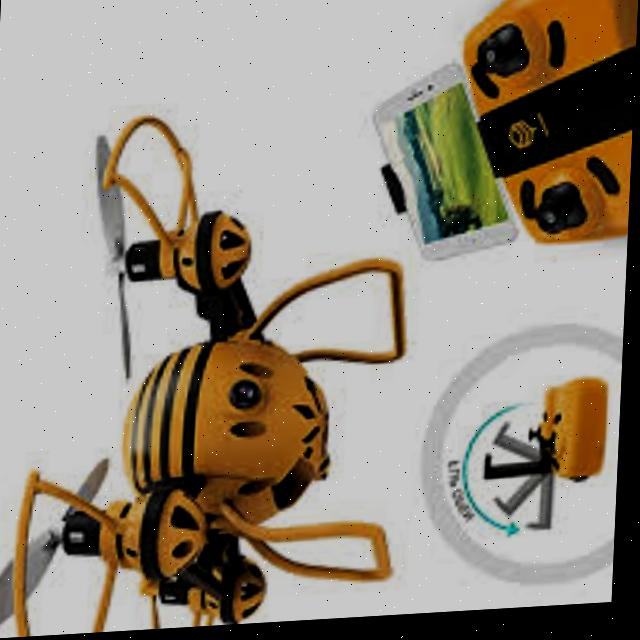drone: (0, 93, 445, 639)
